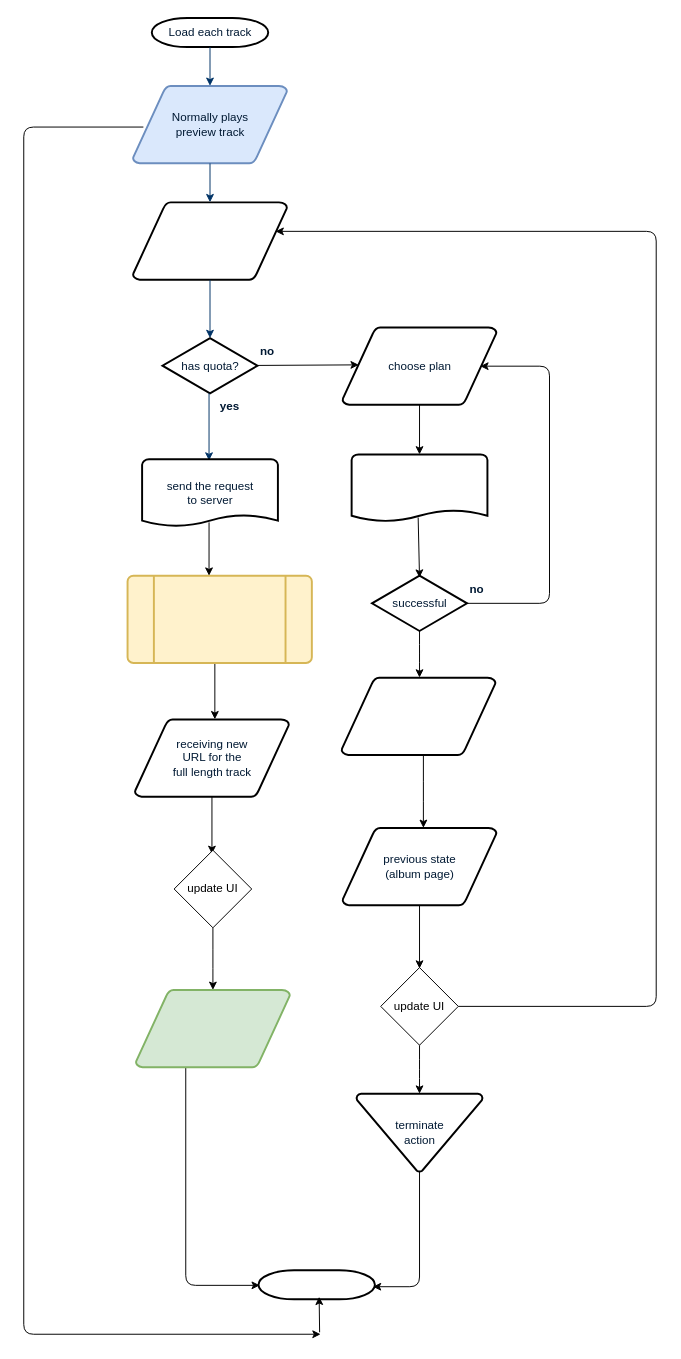
This 681x1359 diagram has some shape labels left out. Here are the shapes that lost their labels. From the top down, the centre of each, then its label:
At point (209, 240): "If user wants full length audio".
At point (419, 488): "payment process".
At point (219, 618): "database reduces 1 item if single track multiple items if album selected".
At point (418, 716): "database updated user has quota".
At point (212, 1028): "streaming/playing OR downloading".
At point (316, 1284): "end".
